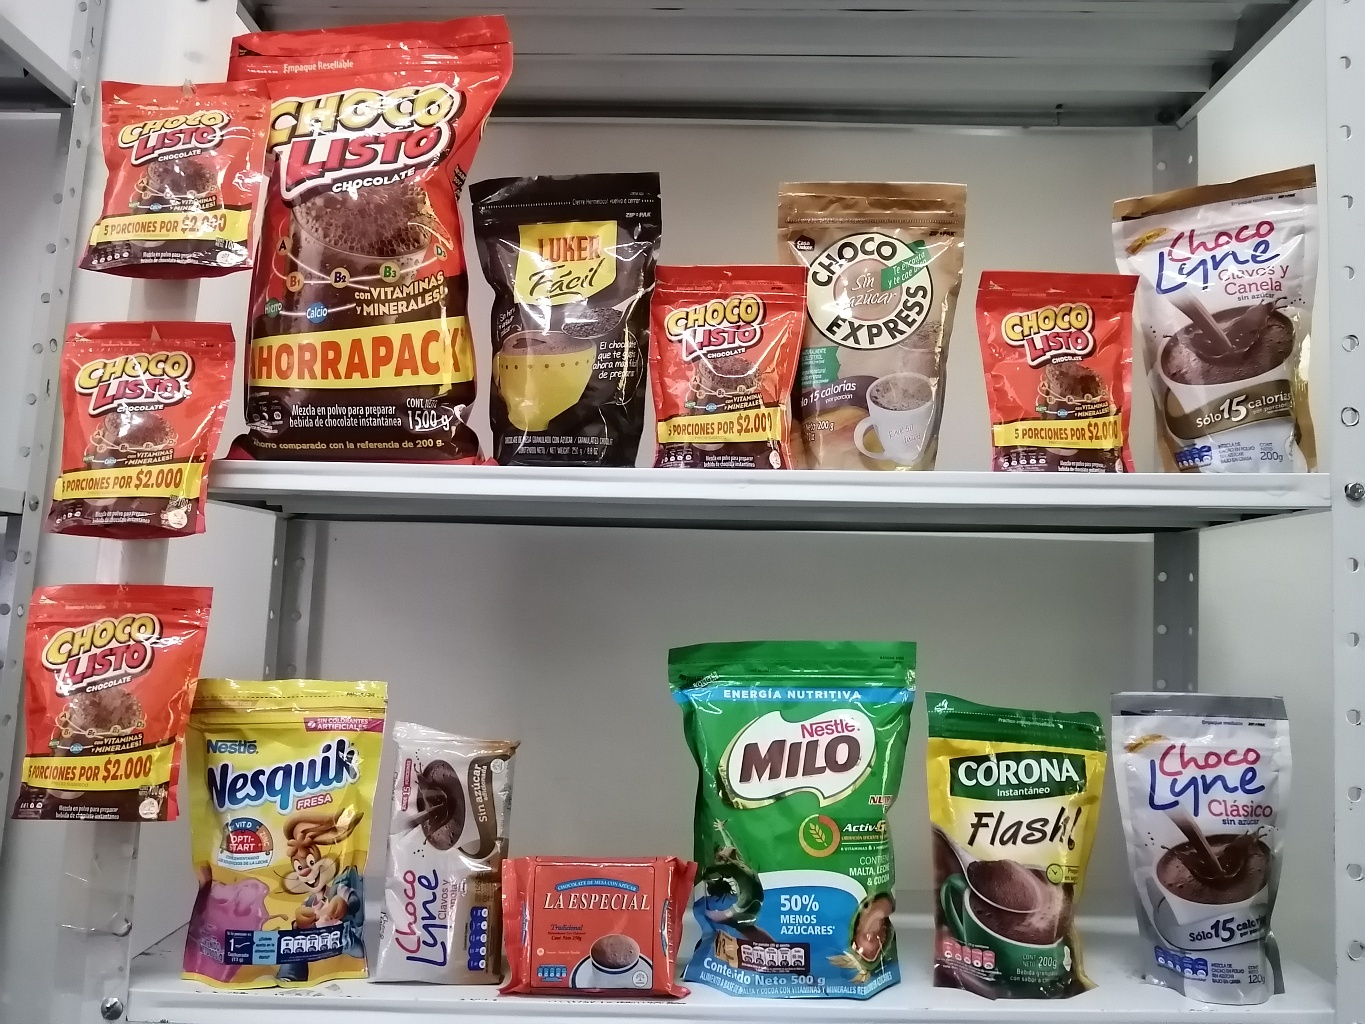COL0170103DYP1,500: (227, 8, 508, 463)
COL0170205DYP50000: (663, 648, 913, 1002)
COL0170305DYP20000: (181, 668, 376, 987)
